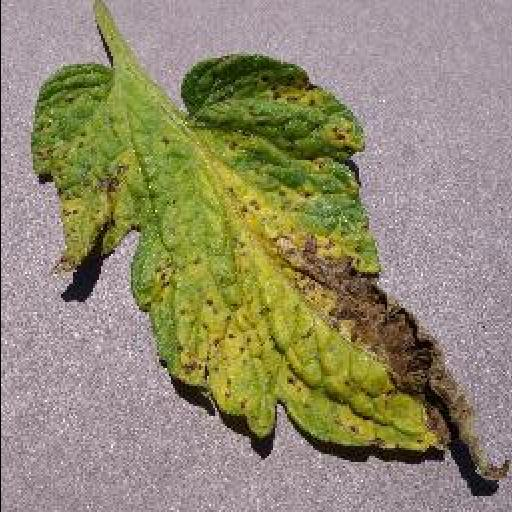disease_tomato: (33, 52, 503, 454)
